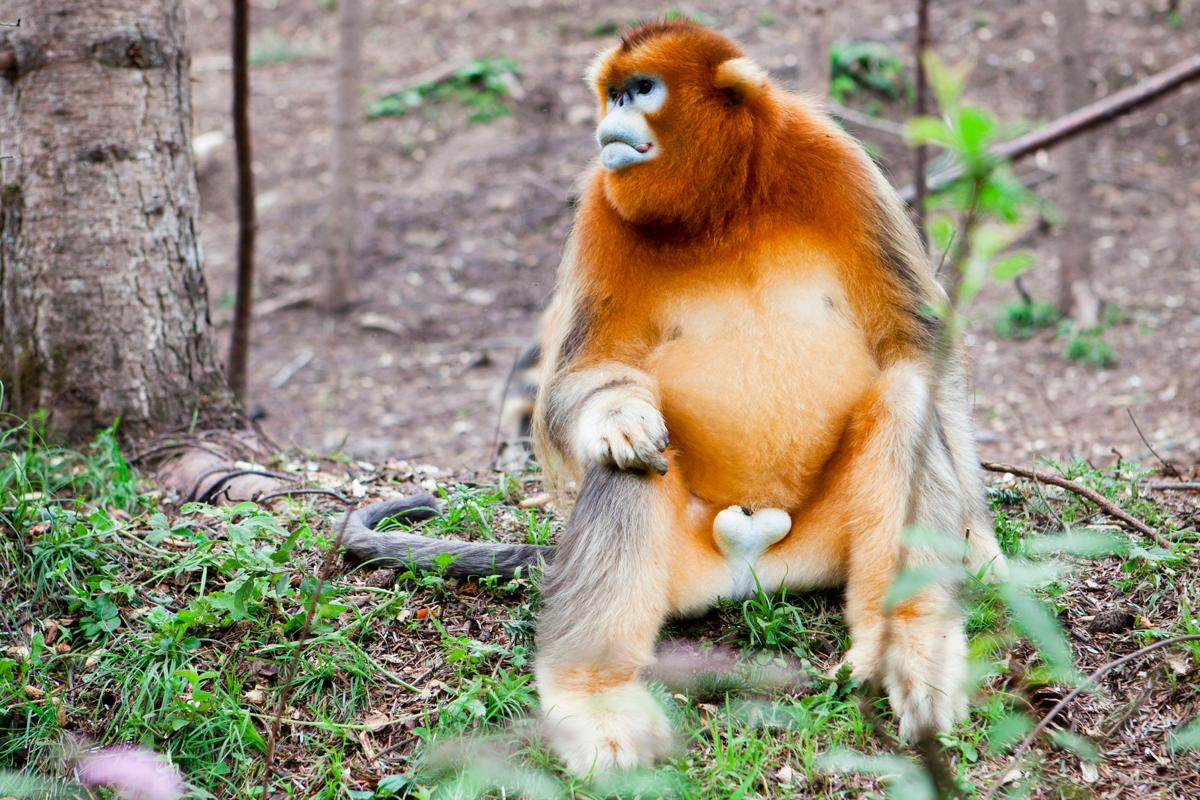GoldenSnub-Nosed: (533, 14, 986, 717)
